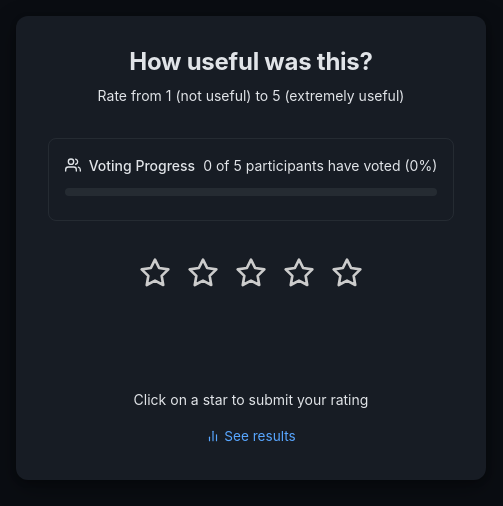
Scenario: PollVoting Component › shows correct rating descriptions
# Test each rating description
Hover over the 1st button.
mouse_move(155, 273)  # box [135,253,175,293]
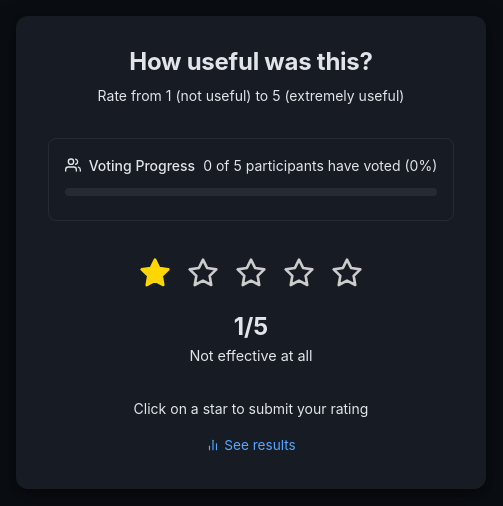
Now the text "Not effective at all" is shown, box [189,345,313,366]
Hover over the 2nd button.
mouse_move(203, 273)  # box [183,253,223,293]
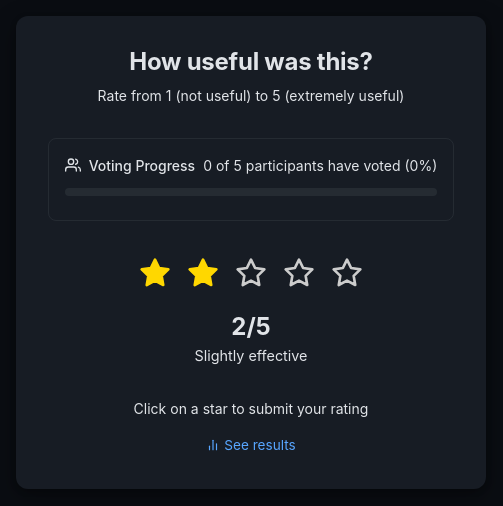
Now the text "Slightly effective" is shown, box [194,345,308,366]
Hover over the 3rd button.
mouse_move(251, 273)  # box [231,253,271,293]
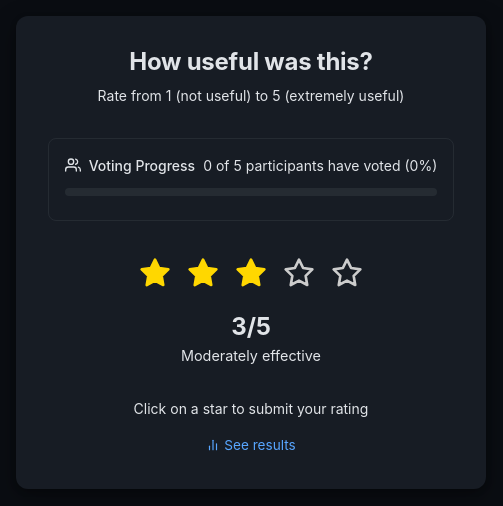
Now the text "Moderately effective" is shown, box [181,345,321,366]
Hover over the 4th button.
mouse_move(299, 273)  # box [279,253,319,293]
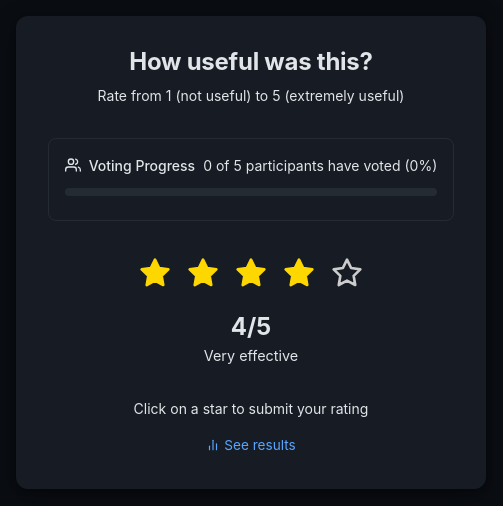
Now the text "Very effective" is shown, box [204,345,298,366]
Hover over the 5th button.
mouse_move(347, 273)  # box [327,253,367,293]
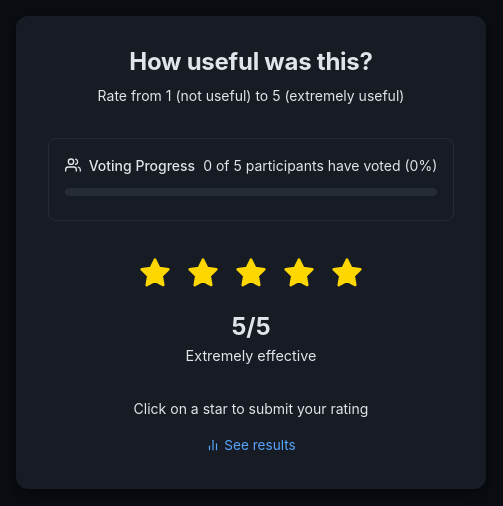
Now the text "Extremely effective" is shown, box [186,345,316,366]
